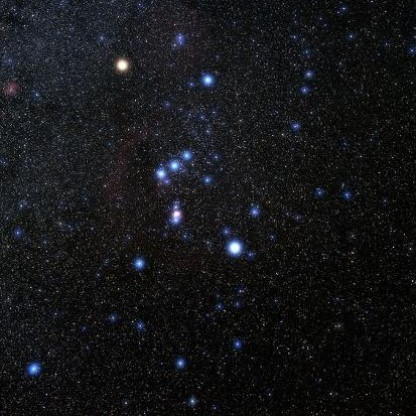Orion: (220, 232, 249, 264), (192, 63, 216, 95), (108, 53, 136, 80), (126, 252, 152, 279), (166, 154, 182, 178), (148, 167, 167, 184), (182, 142, 194, 166)
